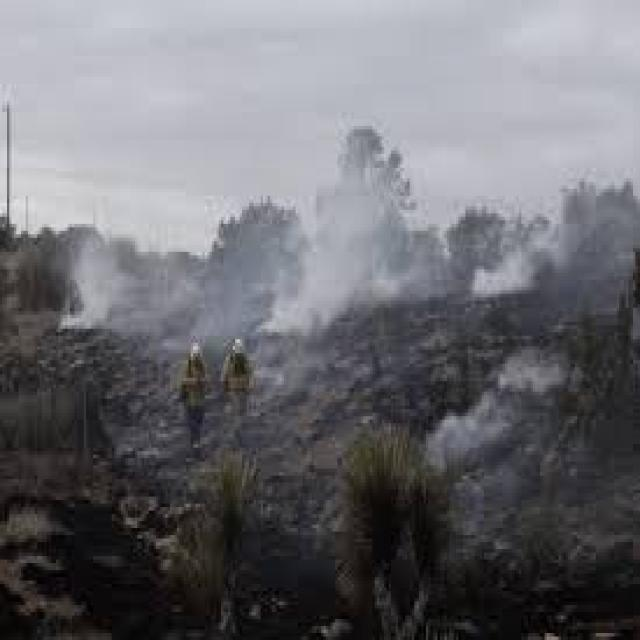smoke: (132, 159, 640, 450)
